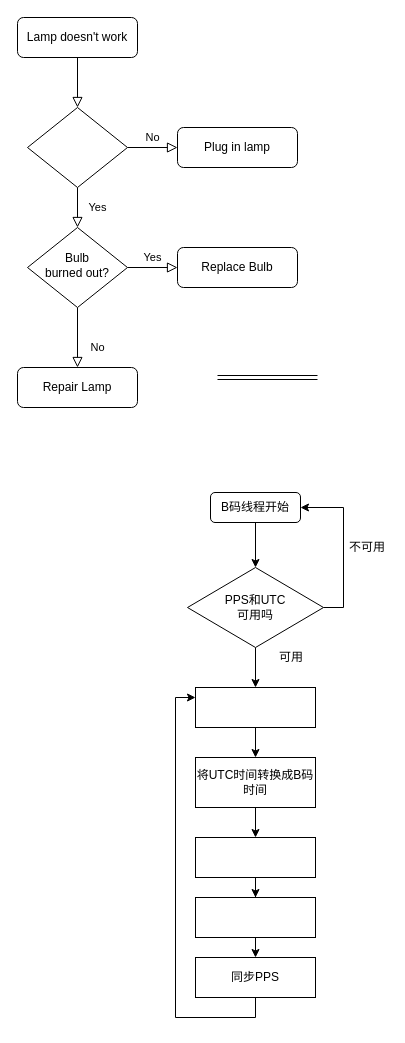
This 405x1043 diagram has some shape labels left out. The shapes that lost their labels are listed below. From the top down, each one's centre as x and y in pixels, then its label:
At (77,147): "Lamp plugged in?".
At (255,707): "得到当前UTC".
At (255,857): "编码一帧".
At (255,917): "输出一帧".
